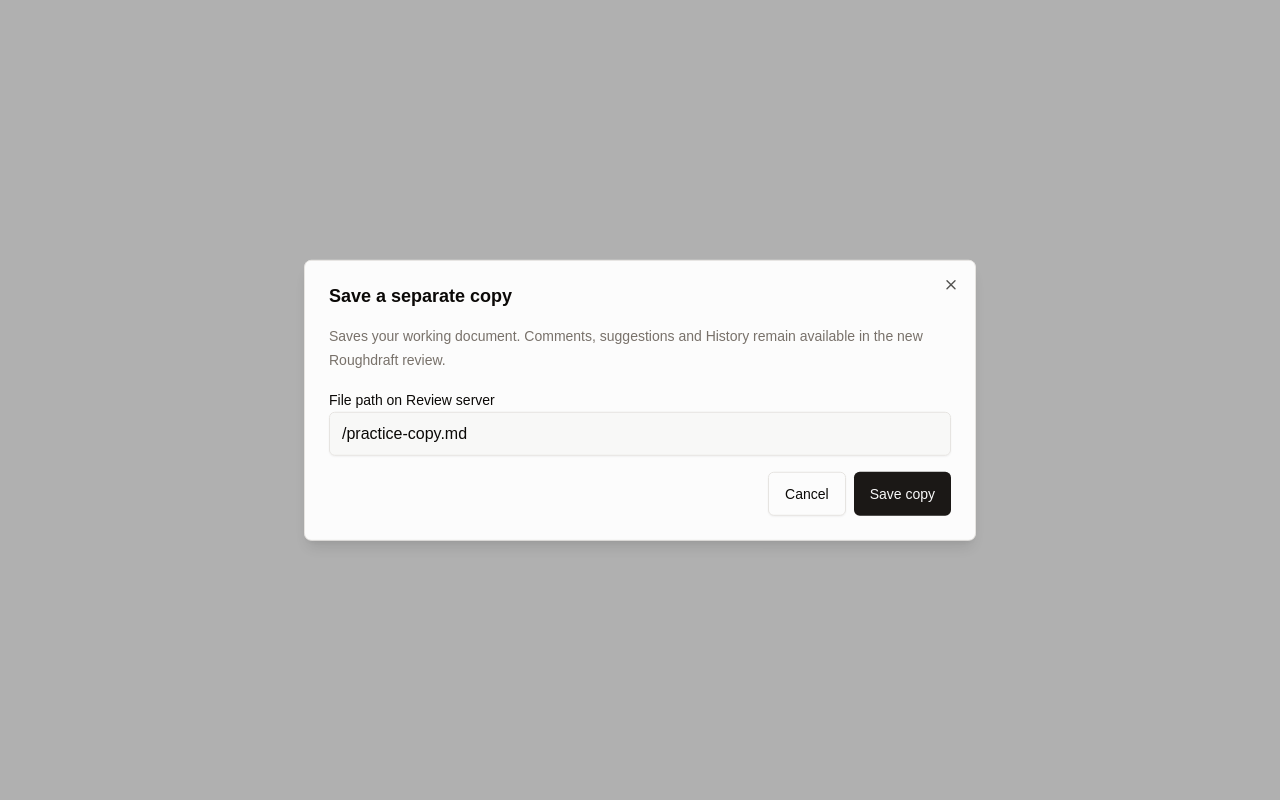
Scenario: reopening after a completed copy can prefill a fresh default until the user edits it
Later steps or results of the test are not shown.
Click the button with test id "revision-save-copy-confirm" at {"x": 902, "y": 493}, box [854, 471, 951, 515]
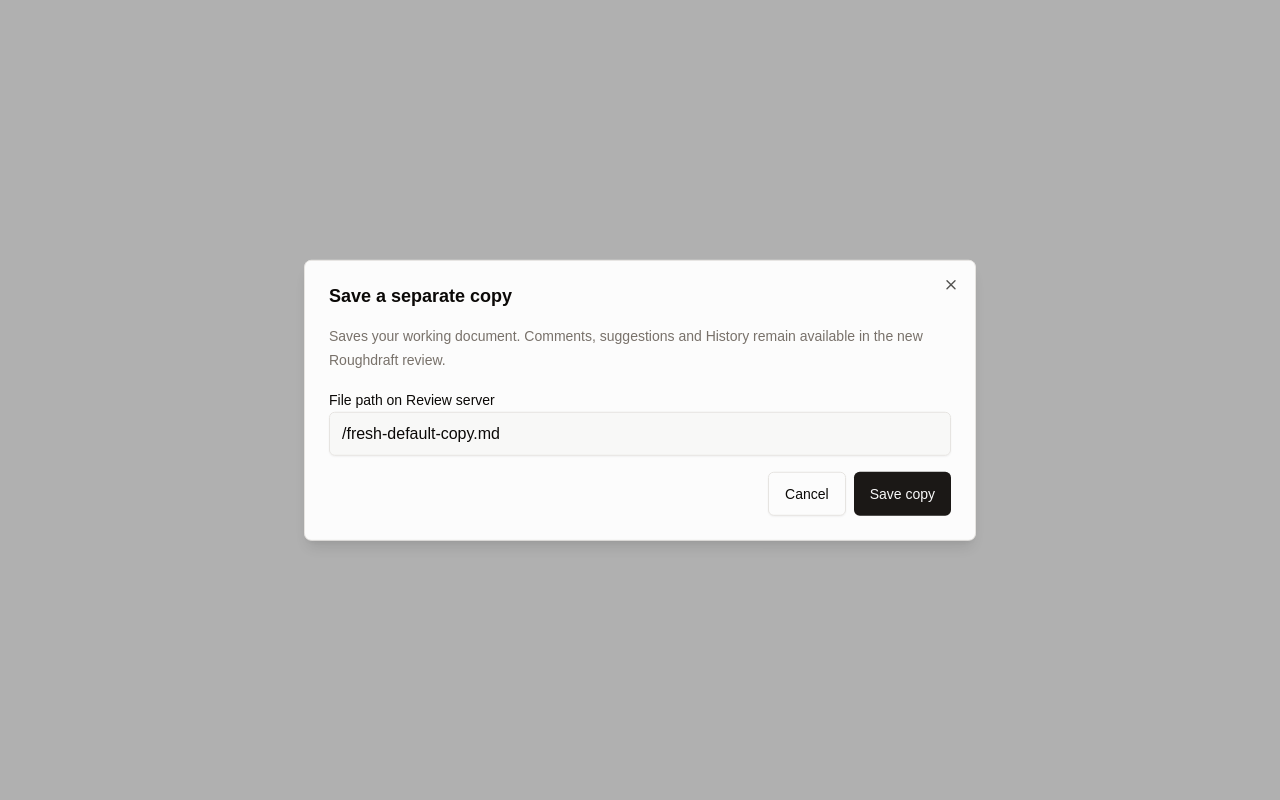
Expected: the field with test id "revision-copy-path" holds "/fresh-default-copy.md", [329, 411, 951, 455]
